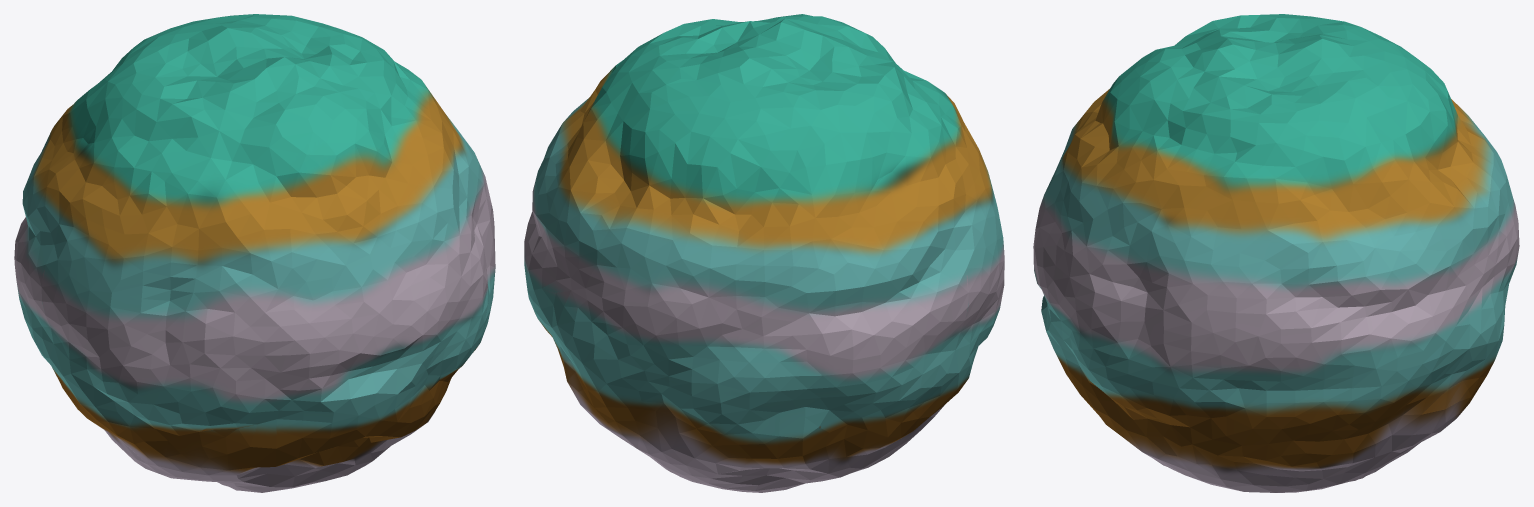
The model's file is jupiter.gltf.
The picture shows the model from 3 angles, left to right: view 1: azimuth 30°, elevation 25°; view 2: azimuth 150°, elevation 25°; view 3: azimuth 270°, elevation 25°; orthographic projection.
Parts seen in each view (by area): view 1: Jupiter; view 2: Jupiter; view 3: Jupiter.
Part boxes in pixels (left/top/right/bottom): Jupiter: left=14, top=14, right=495, bottom=492; Jupiter: left=524, top=14, right=1004, bottom=492; Jupiter: left=1033, top=14, right=1519, bottom=492.
Size of the model in its own units: 2.02 by 1.98 by 2.01.
1 material, 1 textured.
